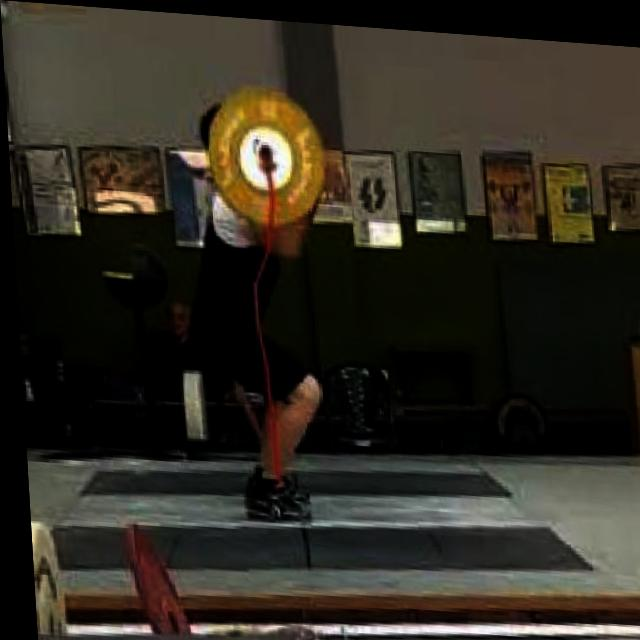barbell: (198, 73, 334, 235)
